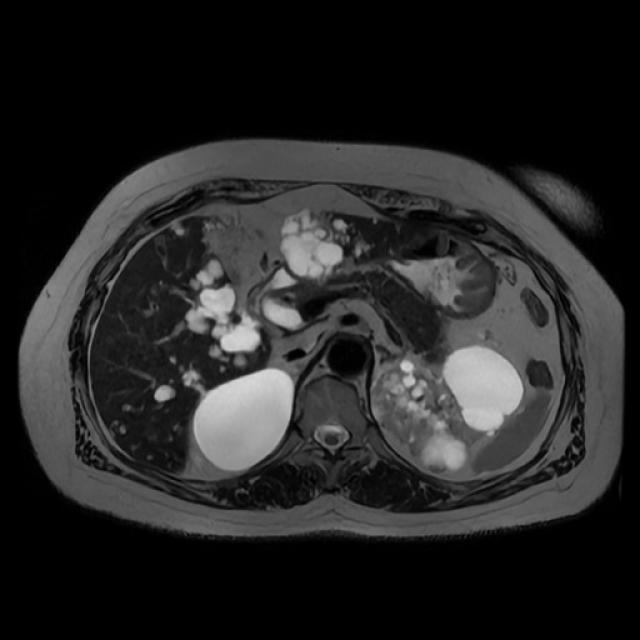sag: (194, 369, 295, 472)
sol: (368, 346, 521, 471)
